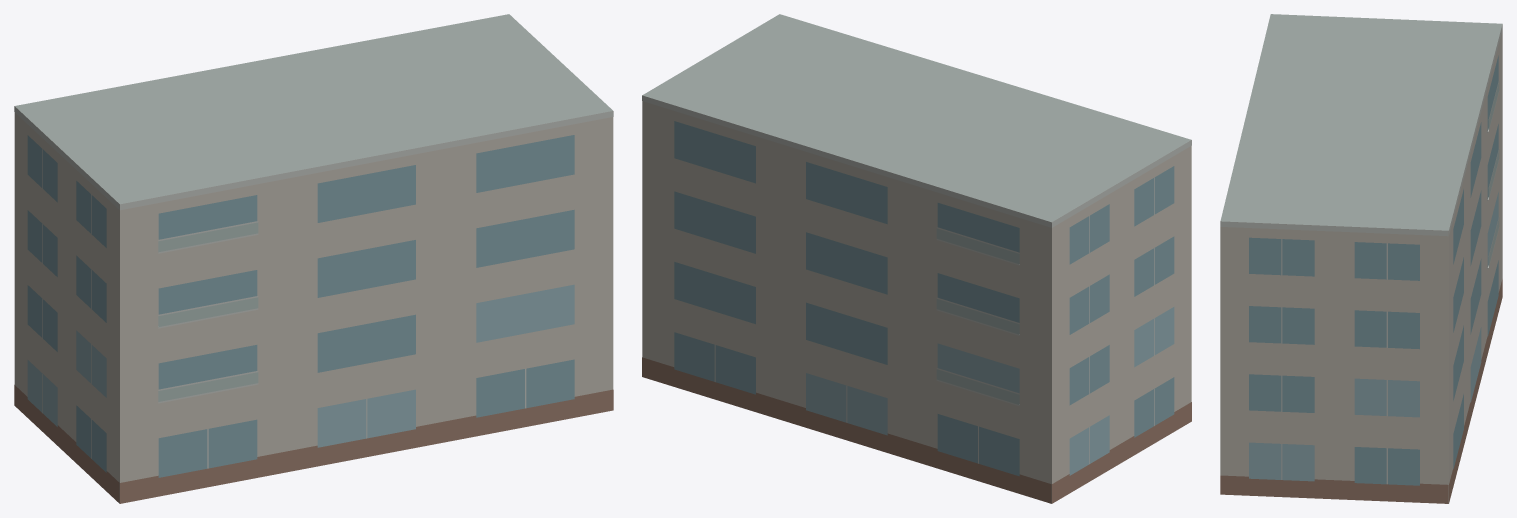
Rendered from survey-upis-32566775.glb.
3 renders of one model, left to right at view 1: azimuth 30°, elevation 25°; view 2: azimuth 150°, elevation 25°; view 3: azimuth 270°, elevation 25°, orthographic. The views are drawn at different scales.
Parts seen in each view (by area): view 1: survey-upis-32566775.tmp; view 2: survey-upis-32566775.tmp; view 3: survey-upis-32566775.tmp.
Part boxes in pixels (x1,y1,x2,y2): survey-upis-32566775.tmp: [14, 14, 613, 503]; survey-upis-32566775.tmp: [642, 14, 1191, 503]; survey-upis-32566775.tmp: [1220, 14, 1502, 503].
Size of the model in its own units: 20.77 by 12.2 by 11.43.
